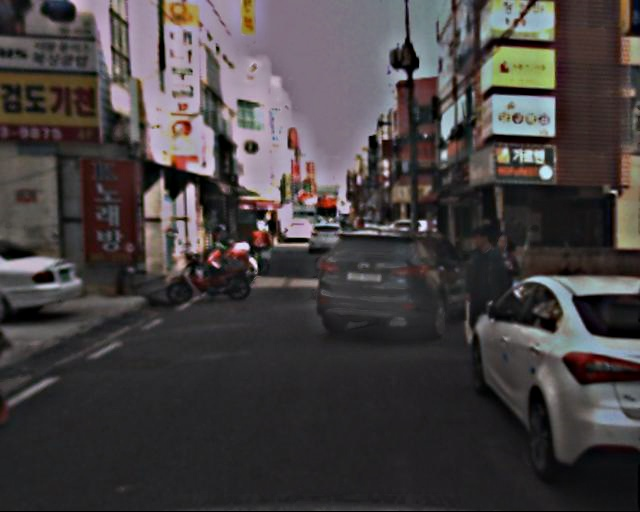person: (463, 226, 507, 357), (1, 247, 29, 410), (487, 229, 525, 339)
